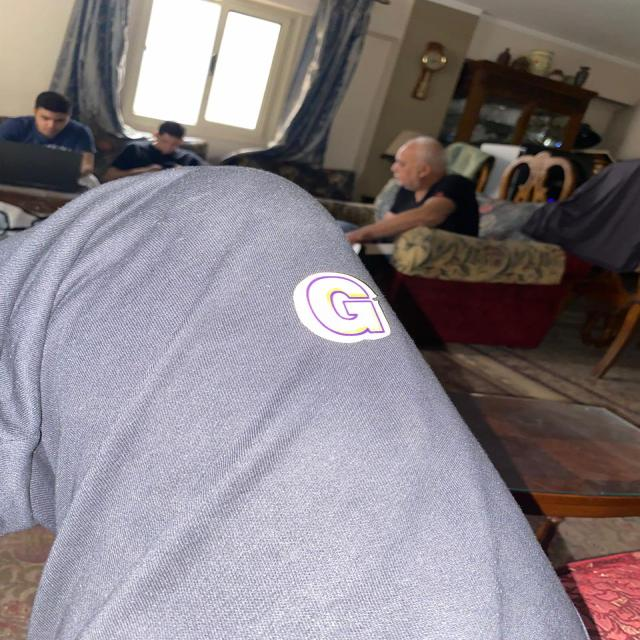G: (294, 273, 389, 343)
